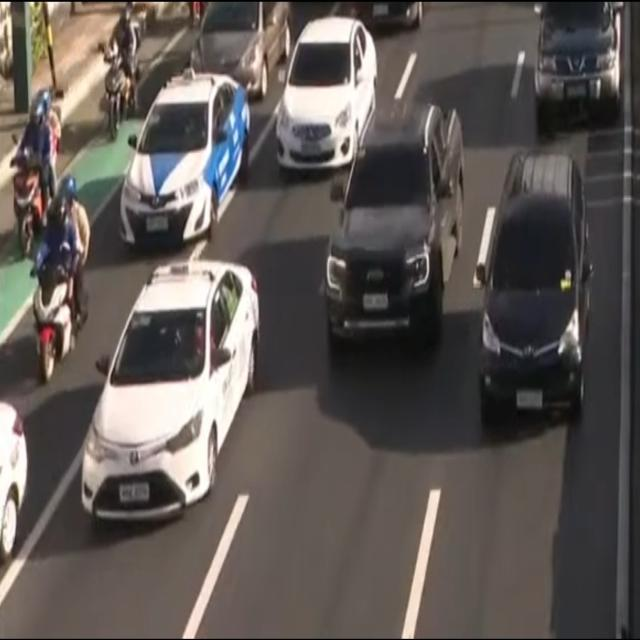Motorcycle: (29, 172, 93, 370), (12, 89, 64, 250), (101, 6, 142, 138)
SUV: (324, 108, 463, 360), (476, 153, 586, 428), (523, 0, 625, 120)
Sedan: (81, 262, 262, 519), (119, 75, 249, 242), (277, 15, 375, 163), (187, 0, 287, 90)
